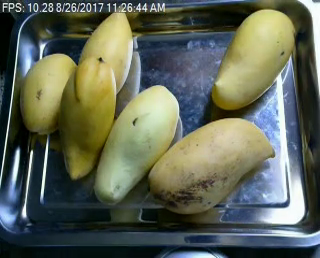Mango: (145, 119, 272, 214), (90, 85, 180, 206), (211, 8, 298, 113), (58, 57, 116, 178), (77, 7, 133, 93), (18, 53, 77, 134)
